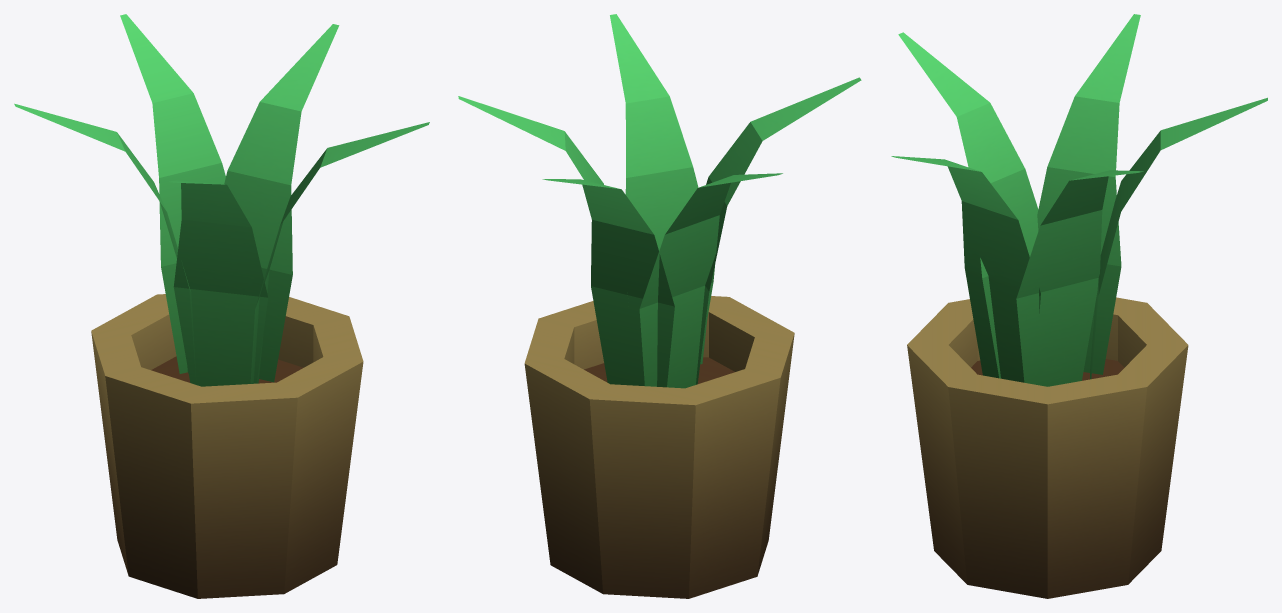
File: Pot Tanaman.fbx
3 renders of one model, left to right at view 1: azimuth 30°, elevation 25°; view 2: azimuth 150°, elevation 25°; view 3: azimuth 270°, elevation 25°, orthographic.
Visible parts, largest first — view 1: Cylinder, Plane.002; view 2: Cylinder, Plane.002; view 3: Cylinder, Plane.002.
Part boxes in pixels (x1,y1,x2,y2): Cylinder: (91, 294, 363, 598); Plane.002: (14, 14, 429, 386); Cylinder: (524, 296, 794, 598); Plane.002: (458, 14, 861, 388); Cylinder: (907, 297, 1188, 598); Plane.002: (891, 14, 1267, 386).
Bounding box in the file's own units: 230 × 307 × 231.
1 material, 1 textured.
